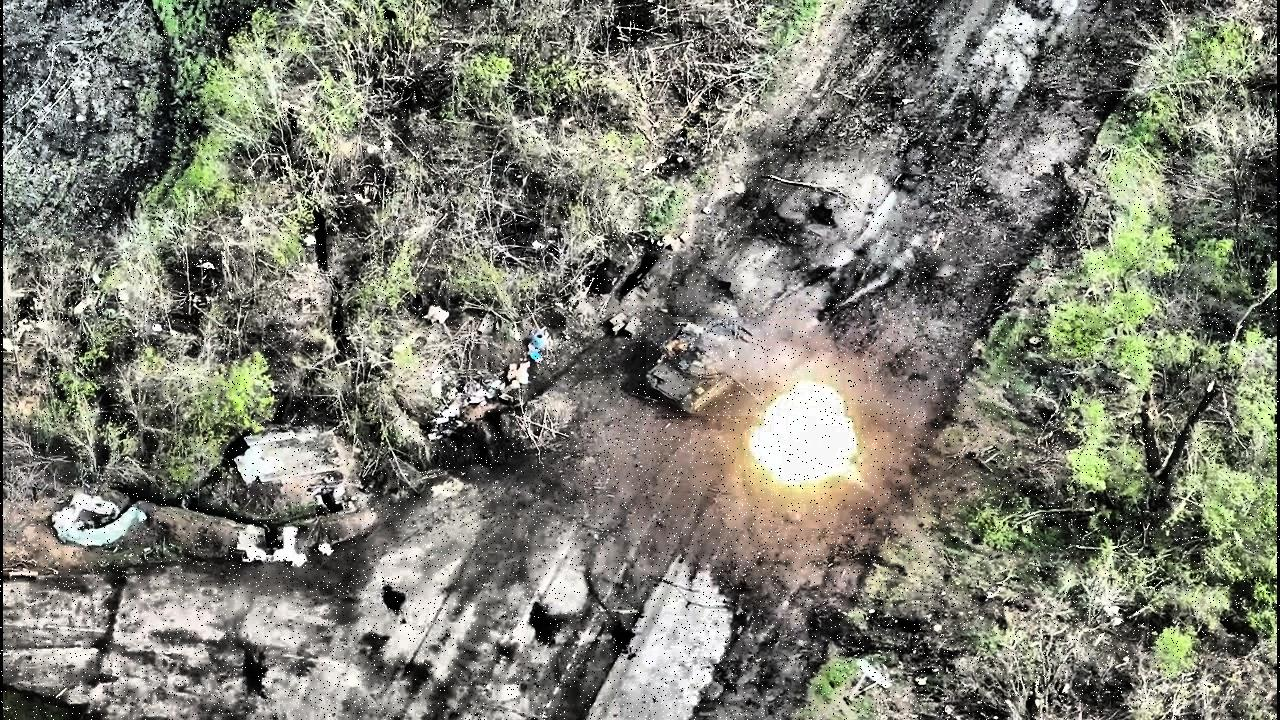military-vehicle: (646, 318, 764, 417)
